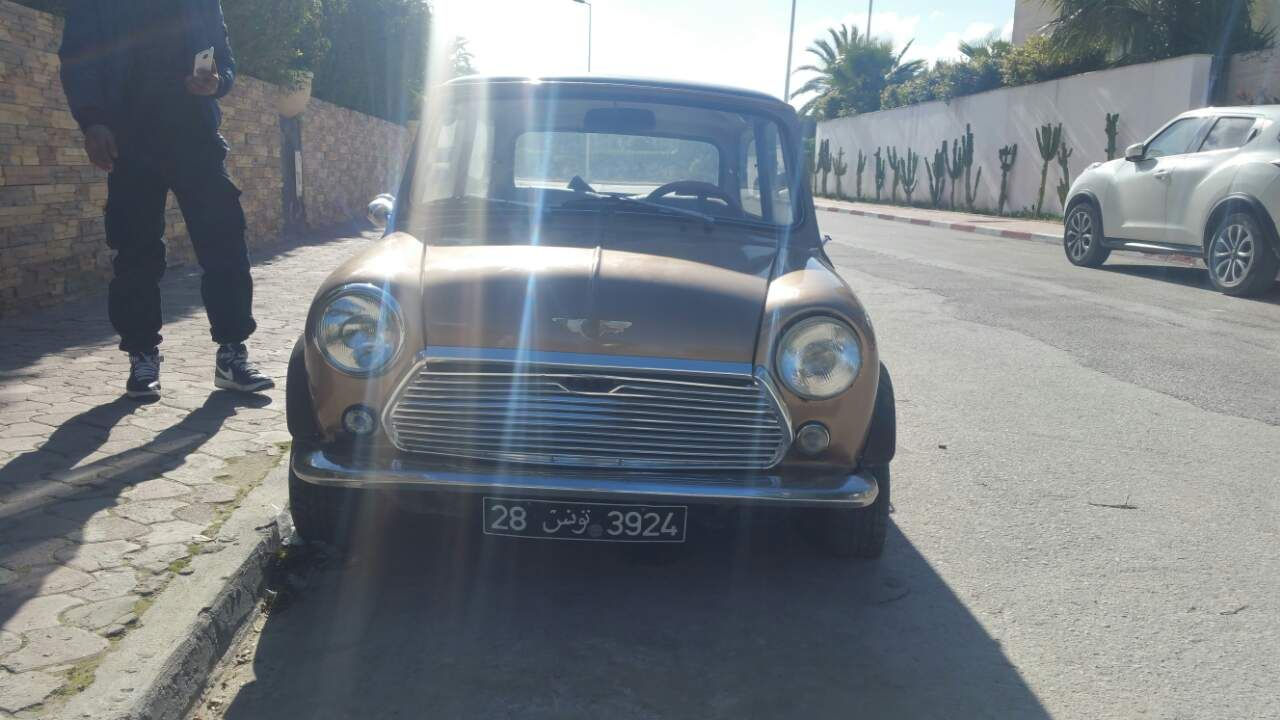LP: (479, 493, 690, 548)
